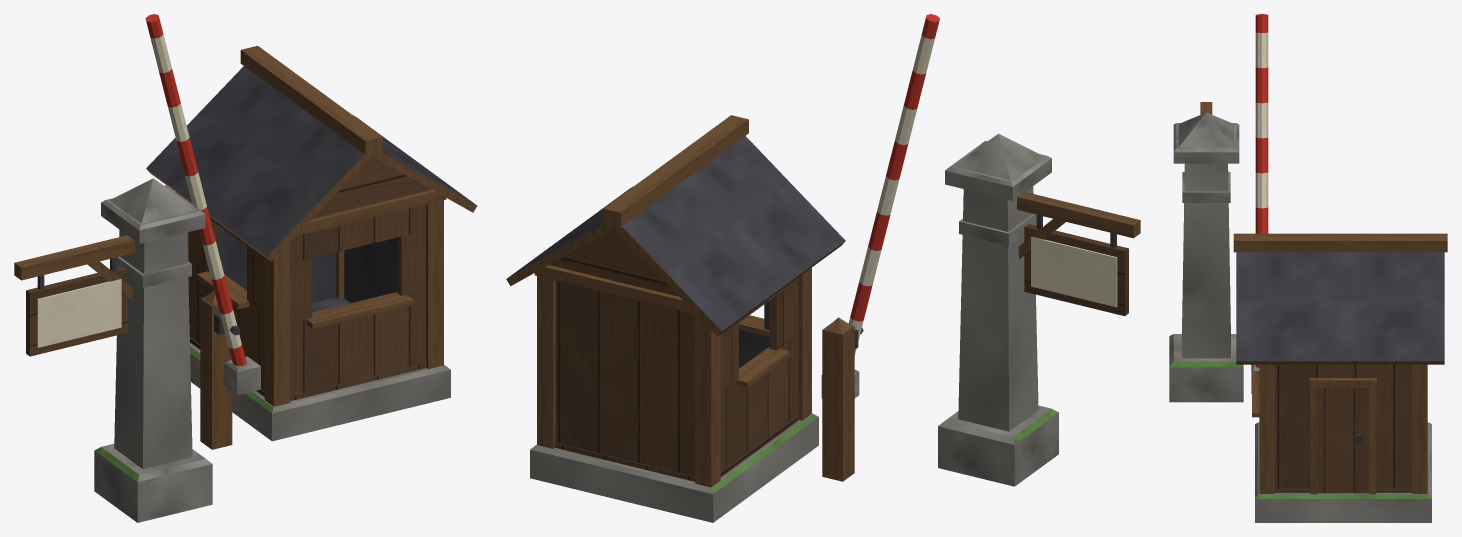
File: blumund_marker.fbx
3 views of the same model, side by side, from view 1: azimuth 30°, elevation 25°; view 2: azimuth 150°, elevation 25°; view 3: azimuth 270°, elevation 25° (orthographic). The views are drawn at different scales.
Parts seen in each view (by area): view 1: blumund_marker_Wood, blumund_marker_Stone, blumund_marker_Roof, blumund_marker_Sign, blumund_marker_Barrier; view 2: blumund_marker_Wood, blumund_marker_Stone, blumund_marker_Roof, blumund_marker_Sign, blumund_marker_Barrier; view 3: blumund_marker_Roof, blumund_marker_Wood, blumund_marker_Stone, blumund_marker_Barrier.
Part boxes in pixels (left/top/right/bottom): blumund_marker_Wood: left=14, top=156, right=446, bottom=449; blumund_marker_Stone: left=94, top=178, right=450, bottom=522; blumund_marker_Roof: left=146, top=45, right=477, bottom=261; blumund_marker_Sign: left=26, top=257, right=127, bottom=356; blumund_marker_Barrier: left=145, top=14, right=260, bottom=395; blumund_marker_Wood: left=534, top=192, right=1140, bottom=487; blumund_marker_Stone: left=530, top=133, right=1058, bottom=522; blumund_marker_Roof: left=506, top=115, right=845, bottom=336; blumund_marker_Sign: left=1024, top=215, right=1128, bottom=316; blumund_marker_Barrier: left=821, top=14, right=939, bottom=398; blumund_marker_Roof: left=1233, top=233, right=1447, bottom=364; blumund_marker_Wood: left=1200, top=102, right=1427, bottom=494; blumund_marker_Stone: left=1169, top=112, right=1431, bottom=522; blumund_marker_Barrier: left=1251, top=14, right=1268, bottom=393.
Size of the model in its own units: 16.55 by 15.12 by 9.75.
Materials: 1 (1 with a texture image).
